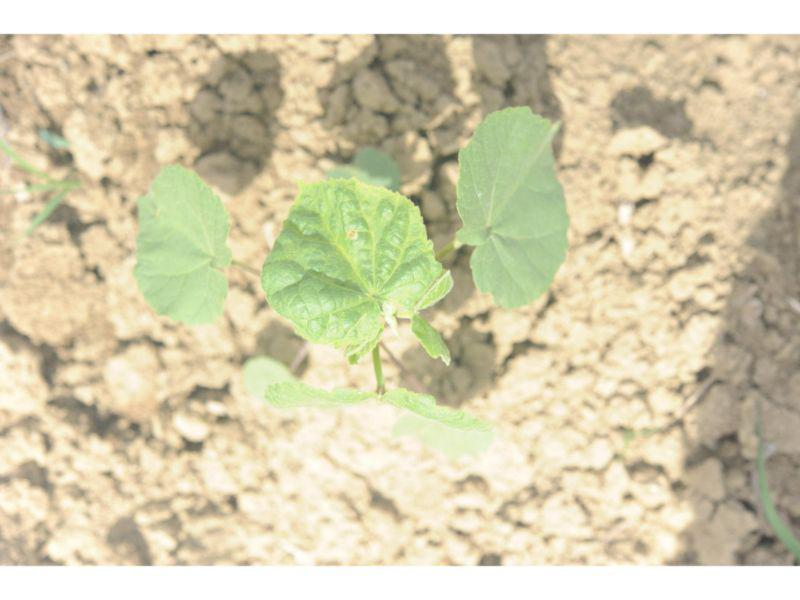velvet: (138, 105, 569, 452)
